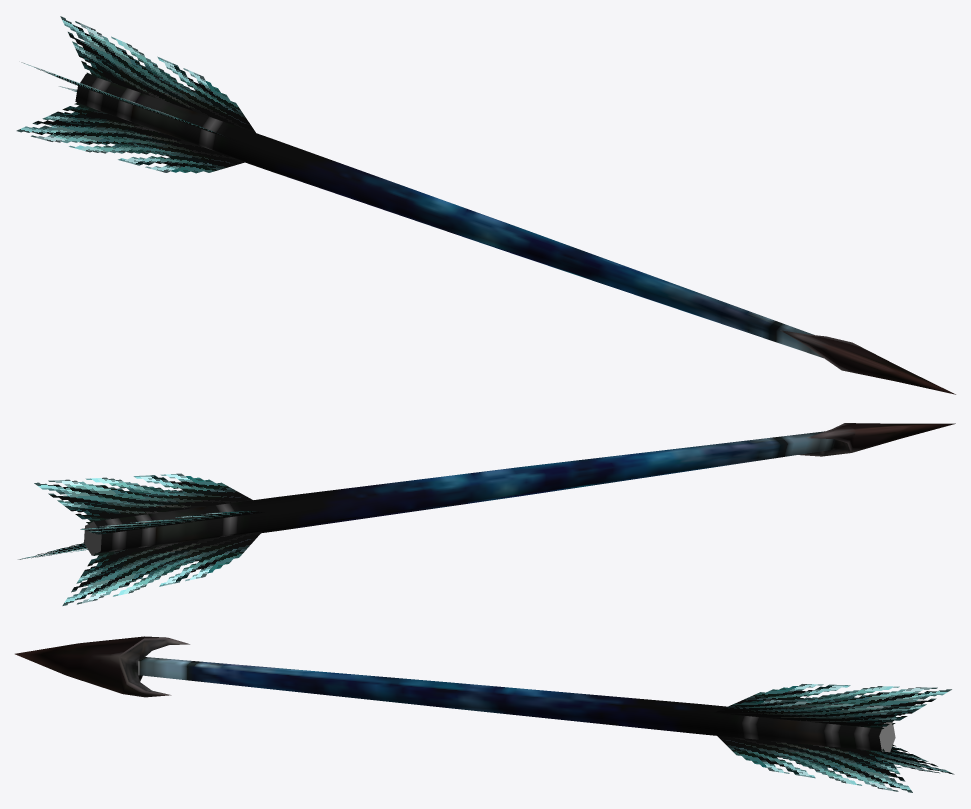
The model's file is CH8_CINE05_ANIM_INST.fbx.
3 views of the same model, one above another, from view 1: azimuth 90°, elevation 25°; view 2: azimuth 150°, elevation 25°; view 3: azimuth 270°, elevation 25° (orthographic). The views are drawn at different scales.
Visible parts, largest first — view 1: CH8_CINE05_ANIM_INST; view 2: CH8_CINE05_ANIM_INST; view 3: CH8_CINE05_ANIM_INST.
Boxes of the visible parts, left/top/right/bottom form: CH8_CINE05_ANIM_INST: left=16, top=16, right=955, bottom=394; CH8_CINE05_ANIM_INST: left=18, top=423, right=955, bottom=605; CH8_CINE05_ANIM_INST: left=15, top=636, right=954, bottom=792.
Bounding box in the file's own units: 6143 × 2147 × 10883.
2 materials, 2 textured.
